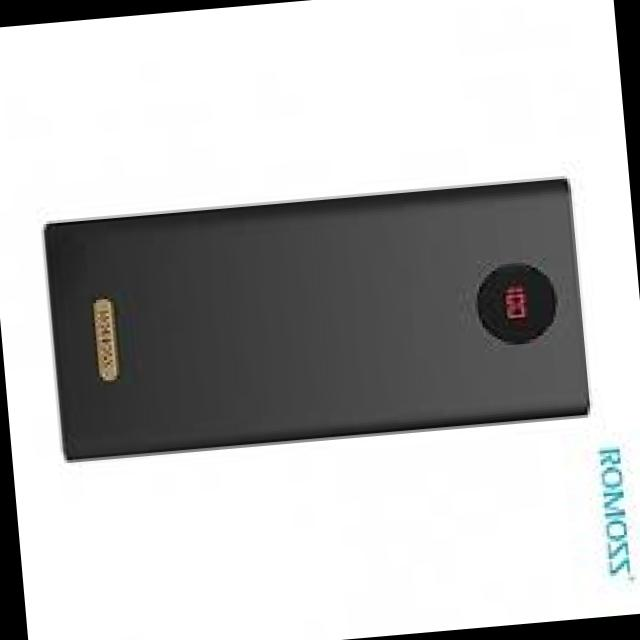power_bank: (39, 178, 588, 465)
